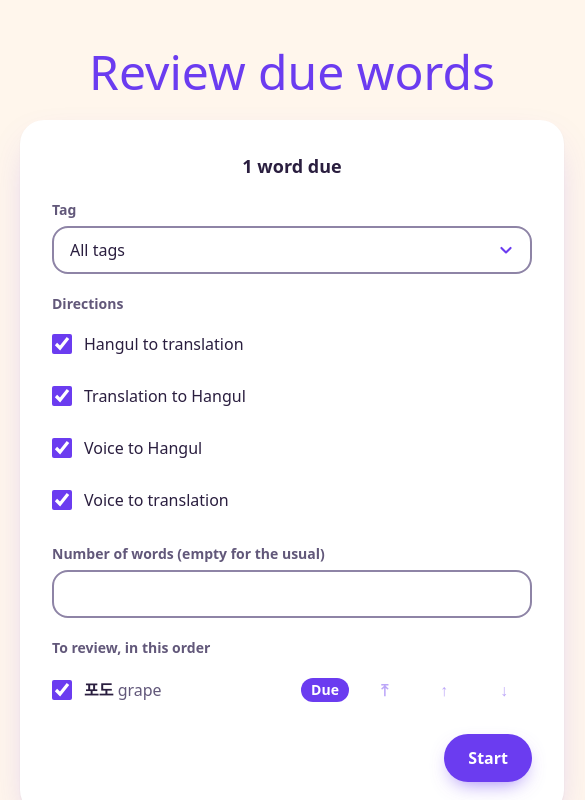
Test: nothing to review shows the backend message and a link to the word list
Expected: the text "1 word due" is shown, [242,154,342,178]
Expected: the list named "Words to review" is shown, [52,666,532,714]
Step 1. Click the button "Start" → (488, 758), box [444,734,532,782]
(page scrolled)
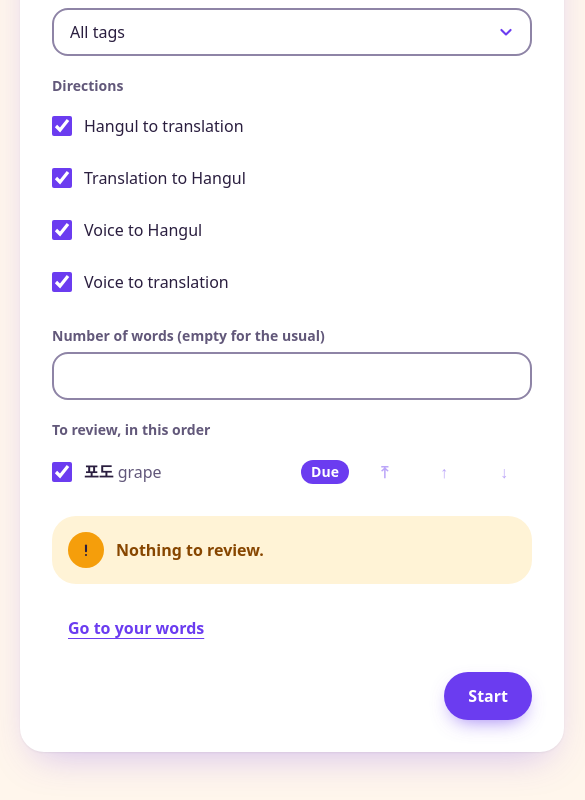
Result: the message reads "Nothing to review." at [116,539,264,561]
